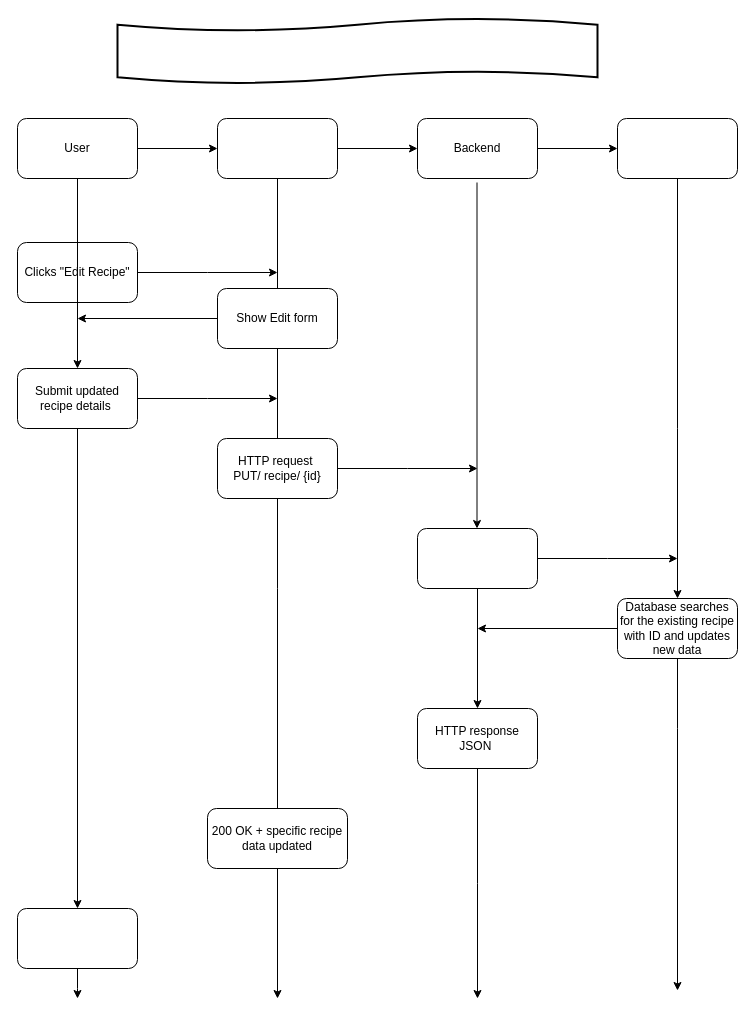
This 755x1024 diagram has some shape labels left out. The centre of each missing label's shape, as x and y in pixels:
"Database" goes at (x=677, y=148).
"Frontend" goes at (x=277, y=148).
"Sequence Diagram — Editing an existing Recipe" goes at (x=357, y=50).
"Show updated recipe details" goes at (x=77, y=938).
"Update recipe by ID" goes at (x=477, y=558).
